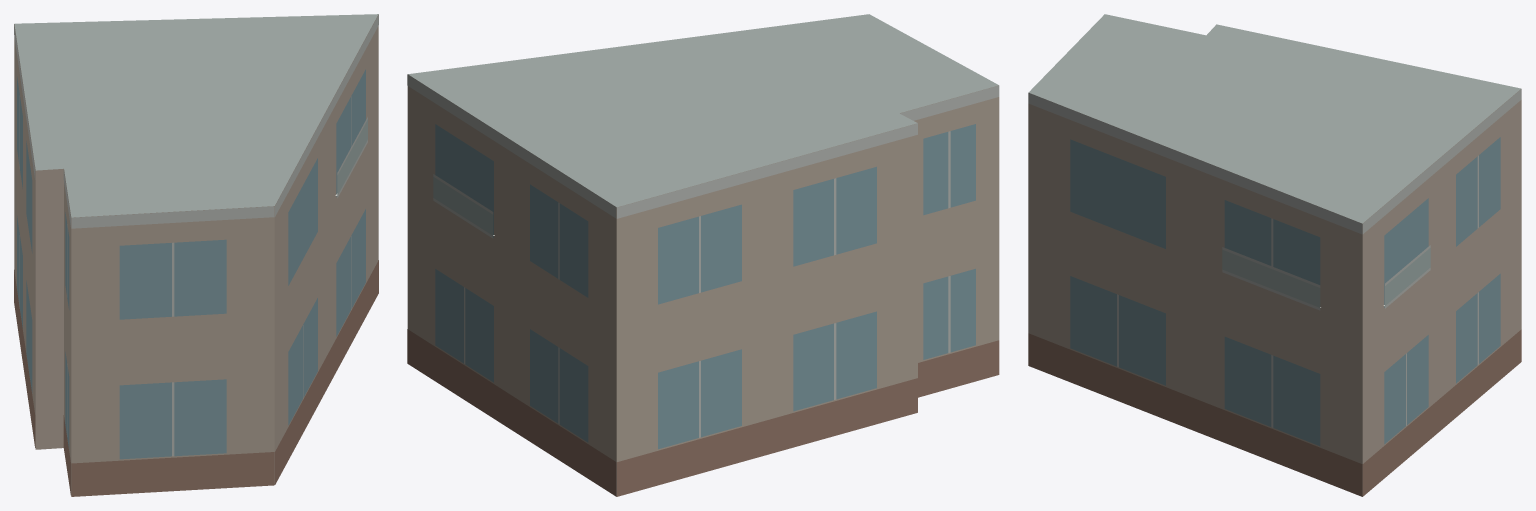
Rendered from survey-upis-32553242.glb.
3 renders of one model, left to right at view 1: azimuth 30°, elevation 25°; view 2: azimuth 150°, elevation 25°; view 3: azimuth 270°, elevation 25°, orthographic. The views are drawn at different scales.
Parts seen in each view (by area): view 1: survey-upis-32553242.tmp; view 2: survey-upis-32553242.tmp; view 3: survey-upis-32553242.tmp.
Part boxes in pixels (box(x1,y1,x2,y2)): survey-upis-32553242.tmp: box(14, 14, 378, 496); survey-upis-32553242.tmp: box(407, 14, 999, 496); survey-upis-32553242.tmp: box(1028, 14, 1521, 496).
Size of the model in its own units: 10.04 by 6.1 by 9.99.
